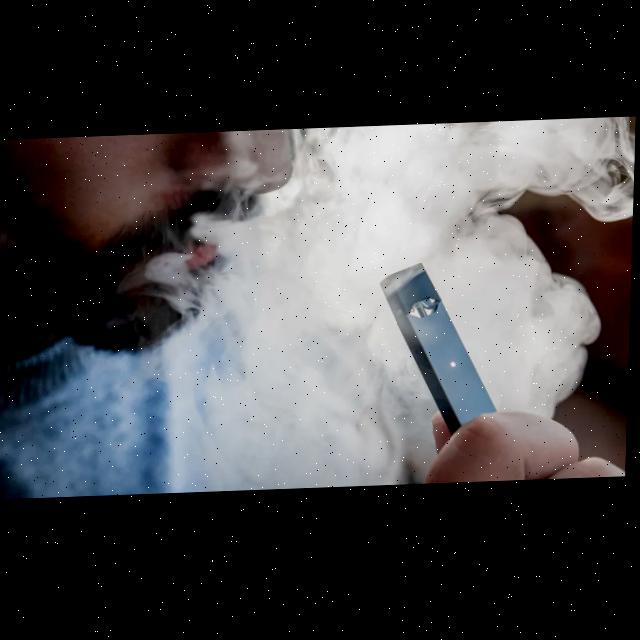vape: (380, 263, 501, 435)
